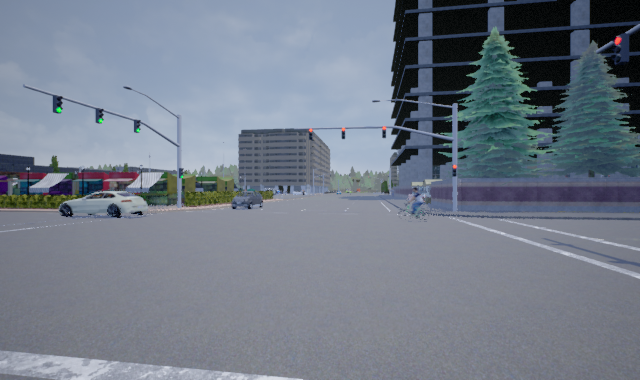bike: (398, 186, 432, 222)
vehicle: (58, 191, 148, 217), (231, 192, 263, 209)
